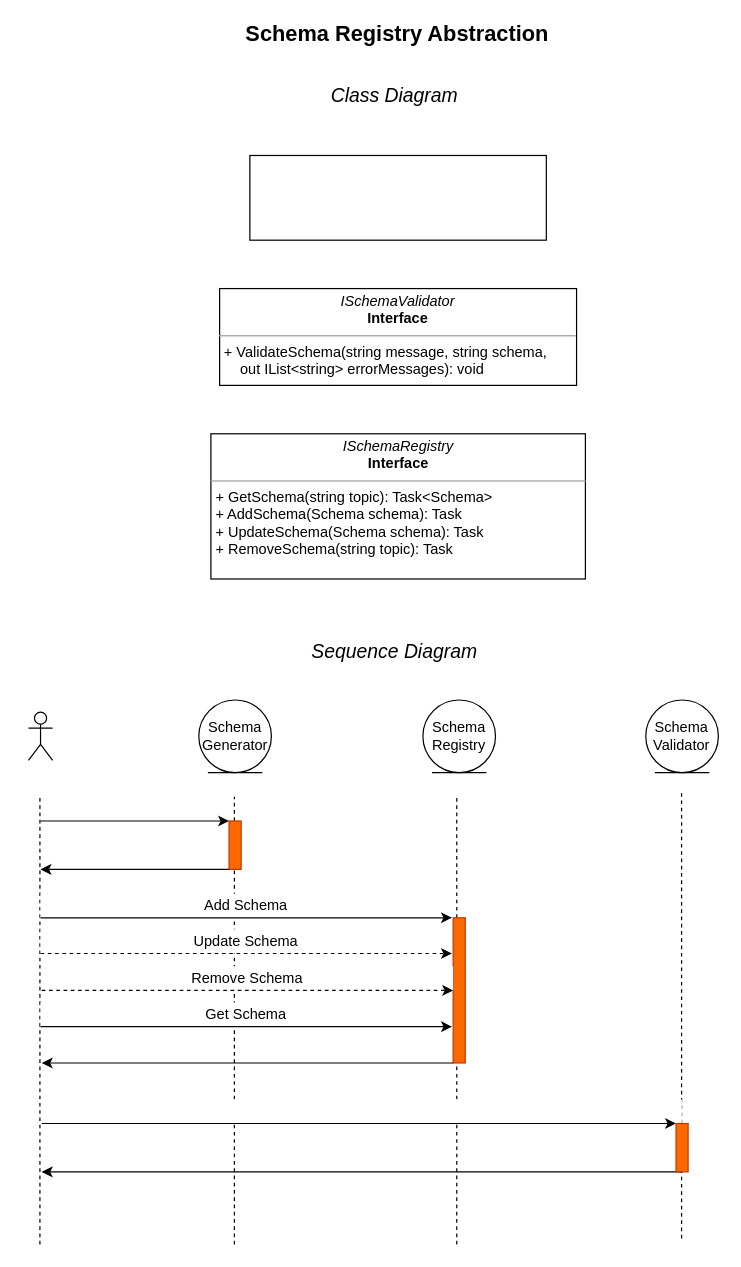
The diagram is 741 pixels wide and 1267 high, and some of its shapes have lost their labels. The shapes that lost their labels are listed below. From the top down, each one's centre as x and y in pixels, then its label:
At [397,197]: "ISchemaGenerator Interface + GenerateSchema(string message): string".
At [40,735]: "Actor".
At [137,808]: "Generate Schema".
At [361,1111]: "Validate Schema".
